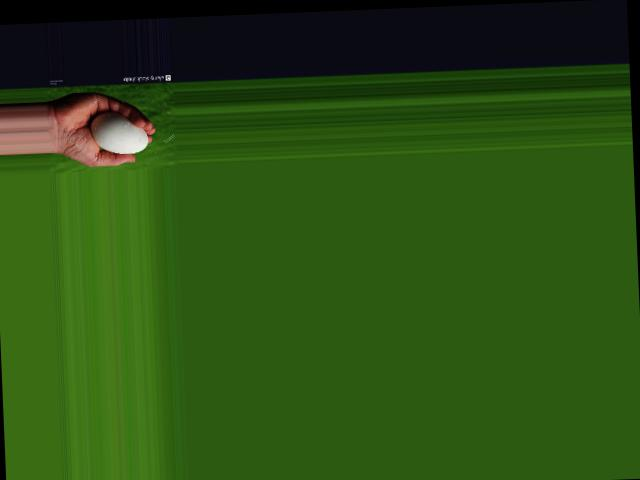egg: (88, 109, 148, 155)
